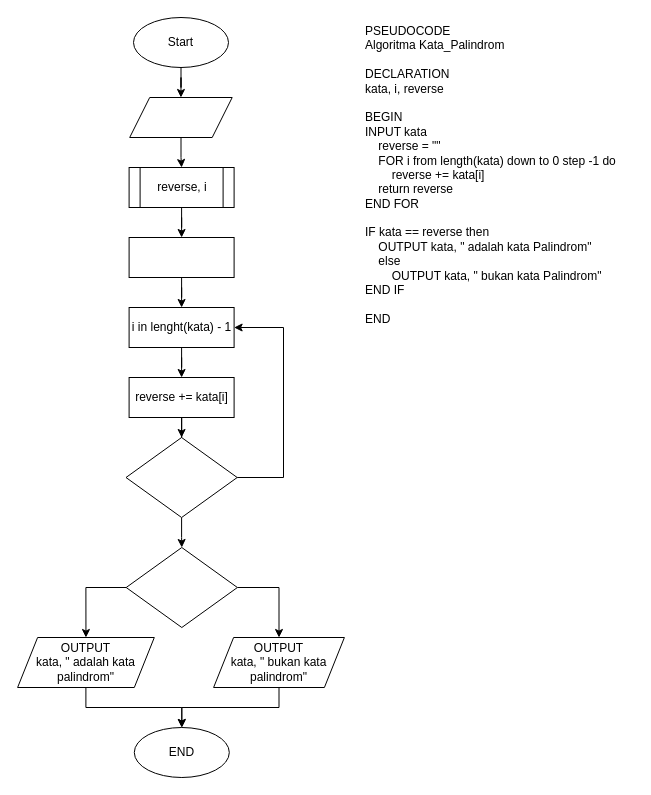
This 651x795 diagram has some shape labels left out. The shapes that lost their labels are listed below. From the top down, each one's box as (x1, y1, x2, y2) in pixels, then its label:
(129, 96, 232, 138): Input kata
(128, 236, 234, 278): lenght(kata)
(125, 436, 237, 518): i in lenght(kata) = 0
(125, 546, 237, 628): reverse == kata
